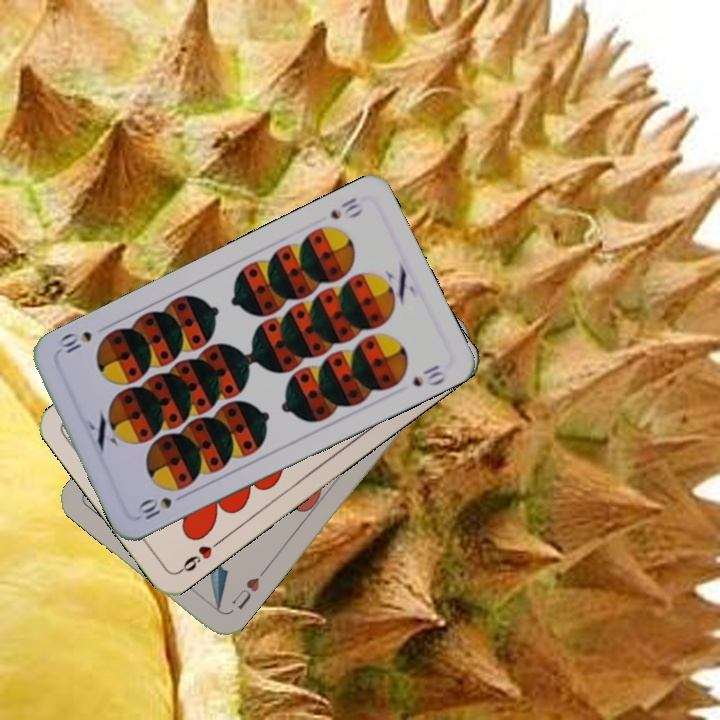H9: (174, 535, 225, 576)
HU: (227, 573, 263, 613)
S10: (134, 489, 189, 523), (326, 193, 367, 222)
